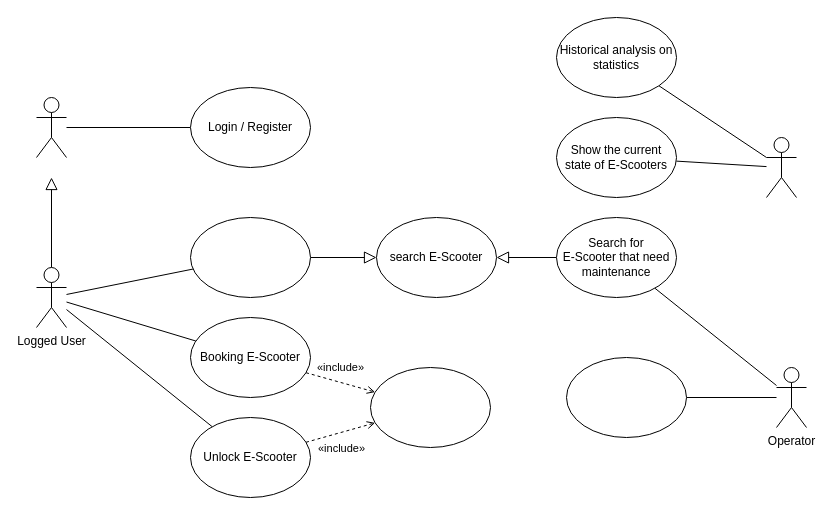
This 832x515 diagram has some shape labels left out. The shapes that lost their labels are listed below. From the top down, each one's centre as x and y in pixels, then its label:
the point at 51,127: User
the point at 781,167: Admin
the point at 250,257: Search for nearest available E-Scooters
the point at 430,407: Payment
the point at 626,397: Pickup E-Scooters
